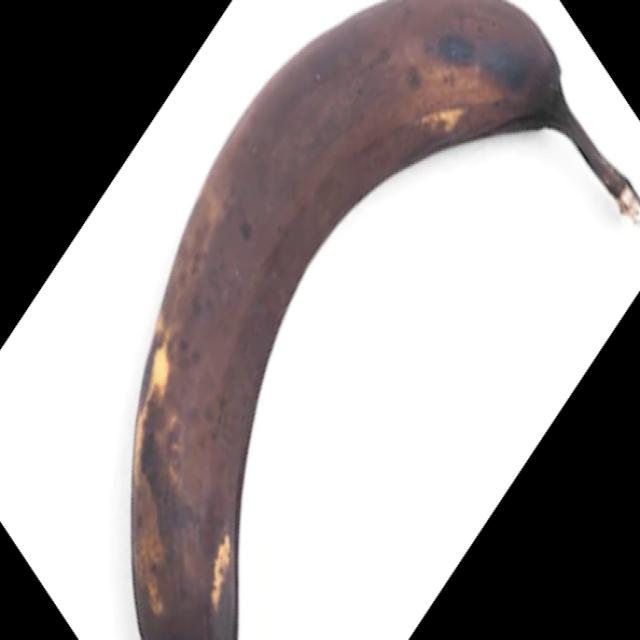Rotten: (130, 0, 640, 640)
